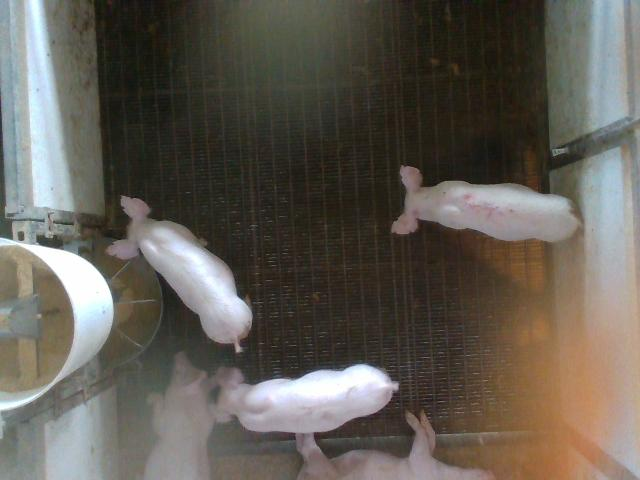pig-5: (392, 166, 580, 242)
